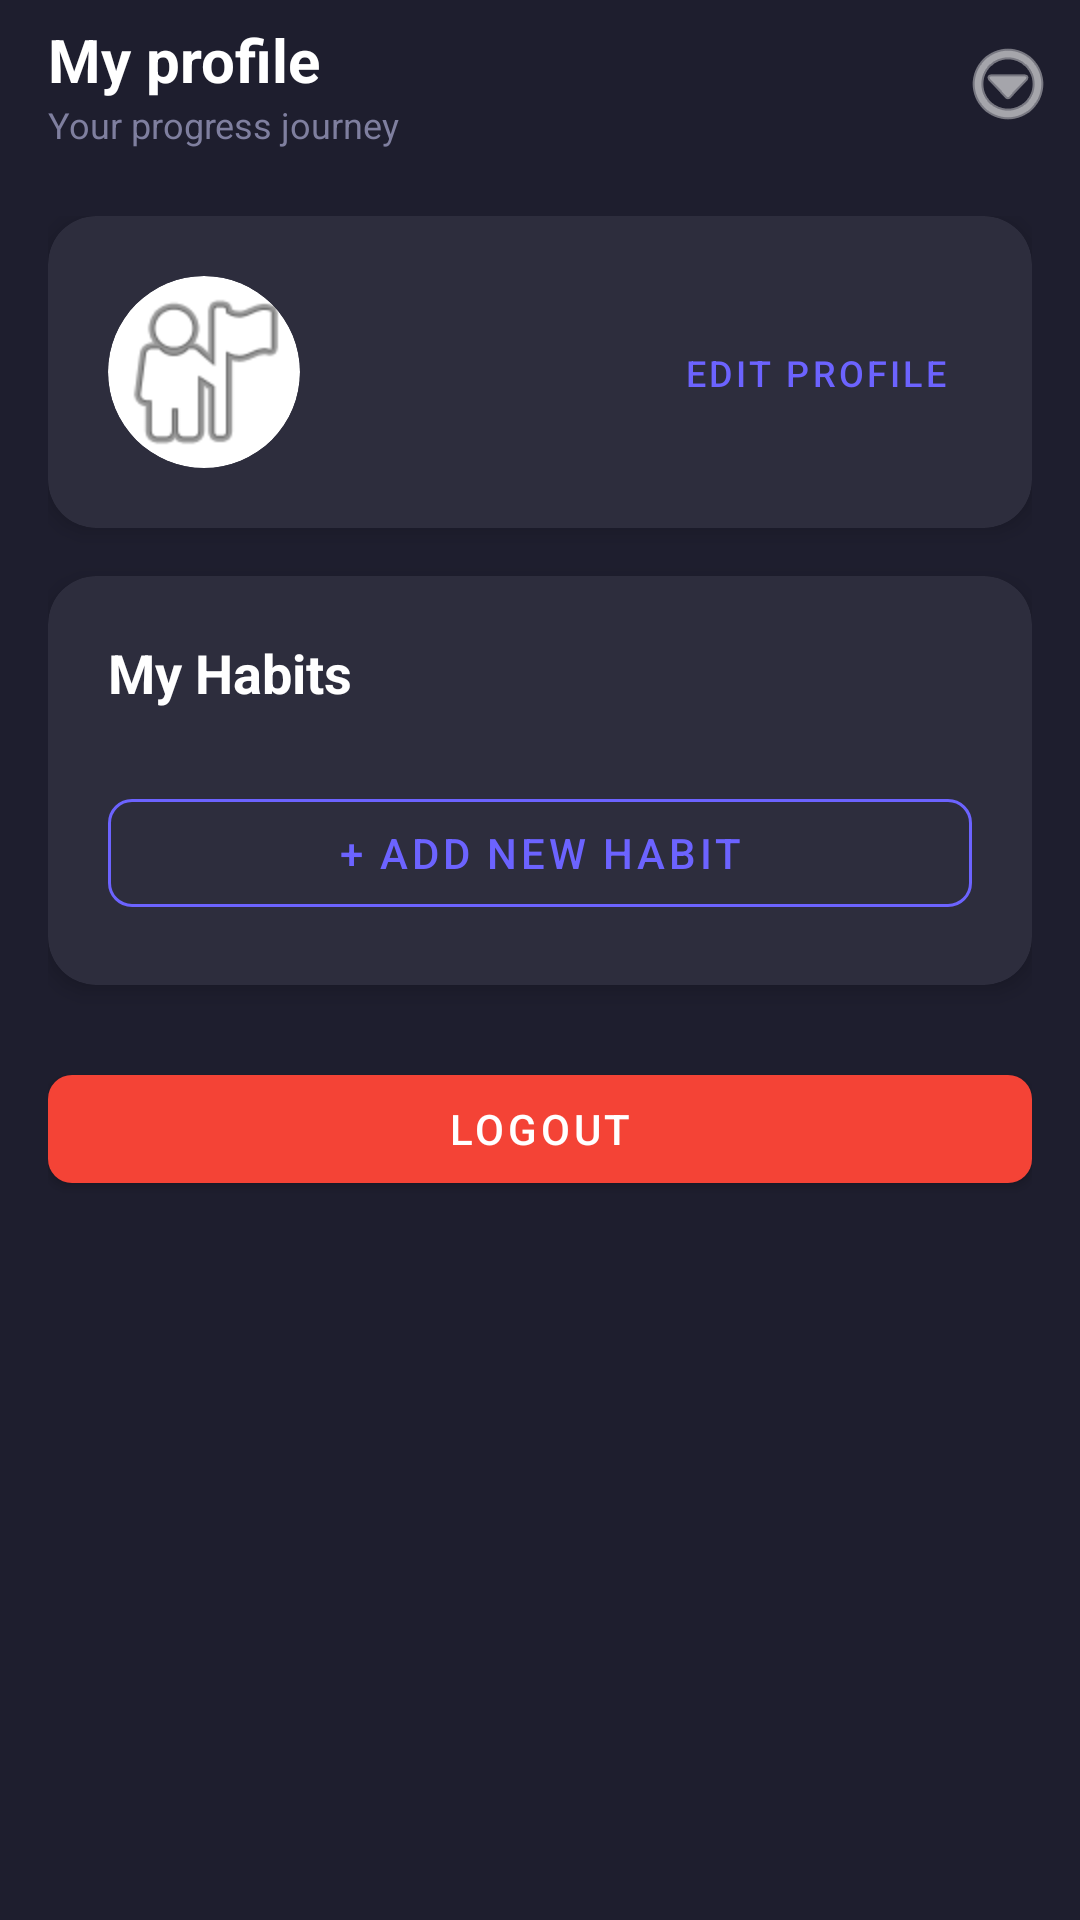

Where icons sit on this 1080x1920 app screen, as (x1, y1, x2, y2):
more: (972, 48, 1044, 120)
